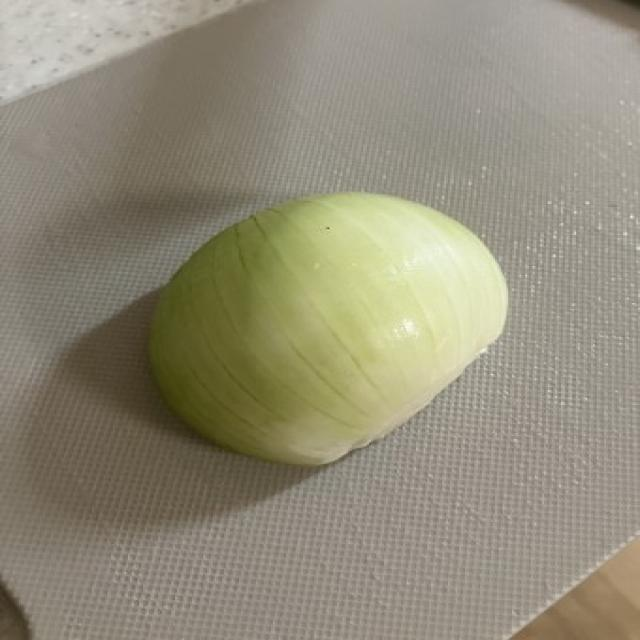onion: (115, 178, 530, 480)
